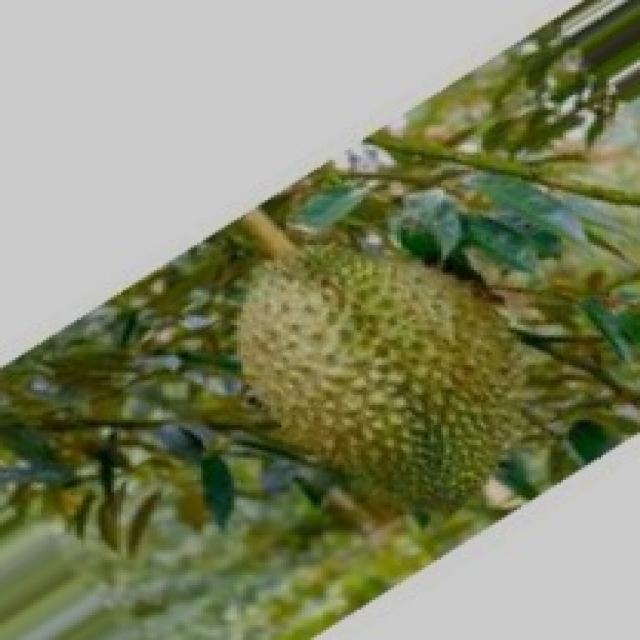fruit: (197, 200, 572, 560)
